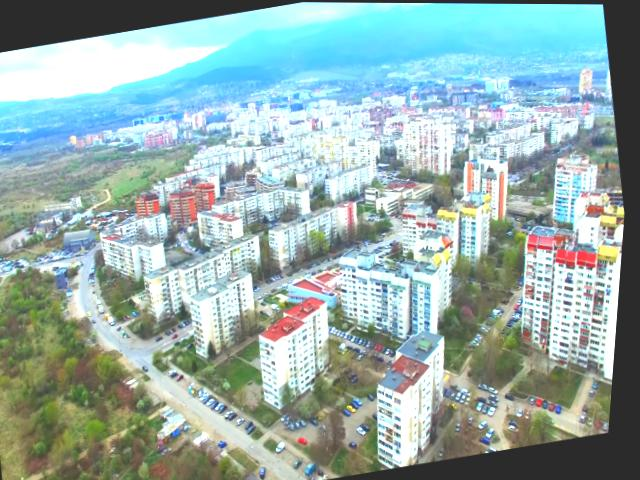plane: (329, 272, 351, 287)
